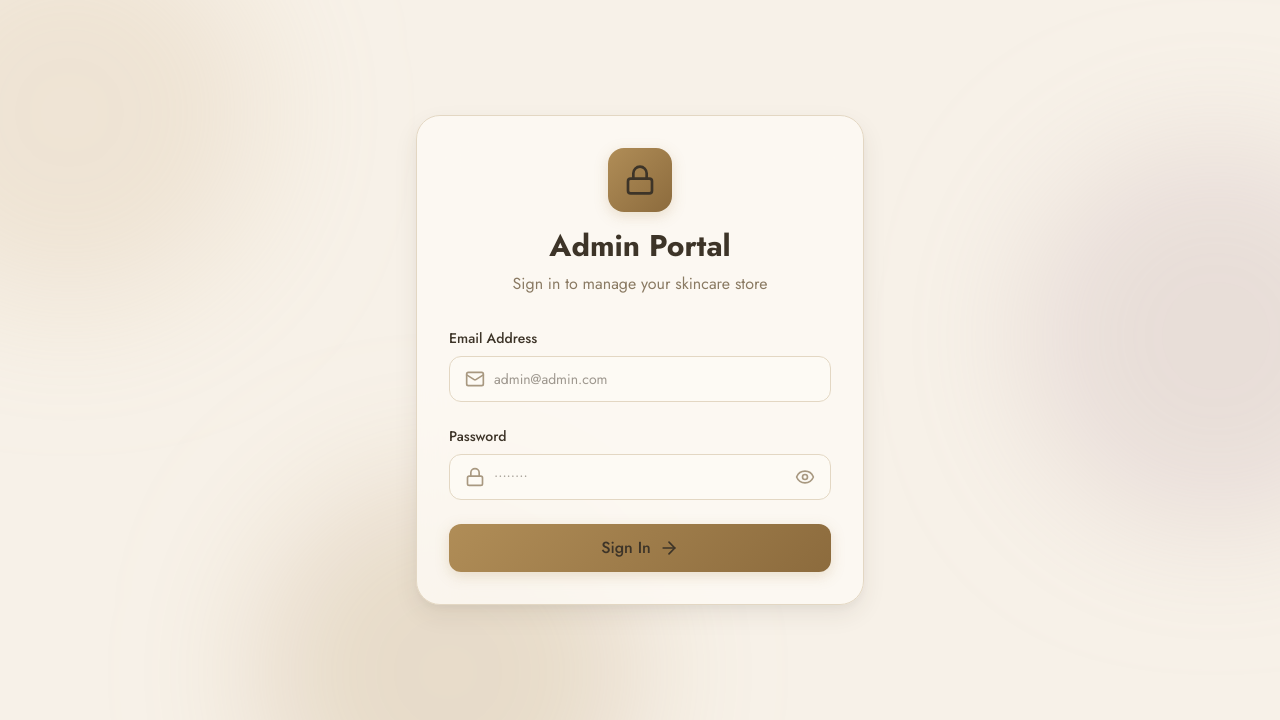
Test: Admin Login Flow E2E › should show validation error for invalid email format
The width and height of the screenshot is (1280, 720).
Type "invalid@email" into the field with placeholder "admin@admin.com".
click(640, 379); type("invalid@email")  # box [449,356,831,402]
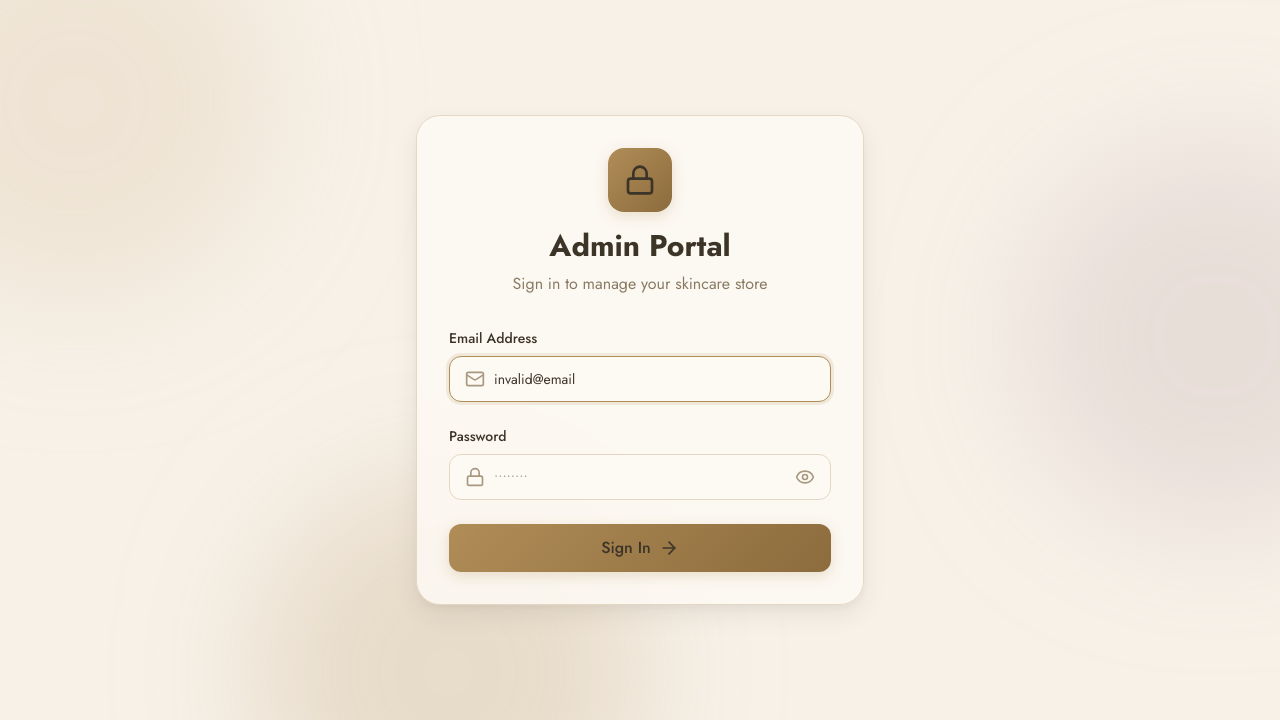
Type "somepassword" into the password field with placeholder "••••••••".
click(640, 477); type("somepassword")  # box [449,454,831,500]
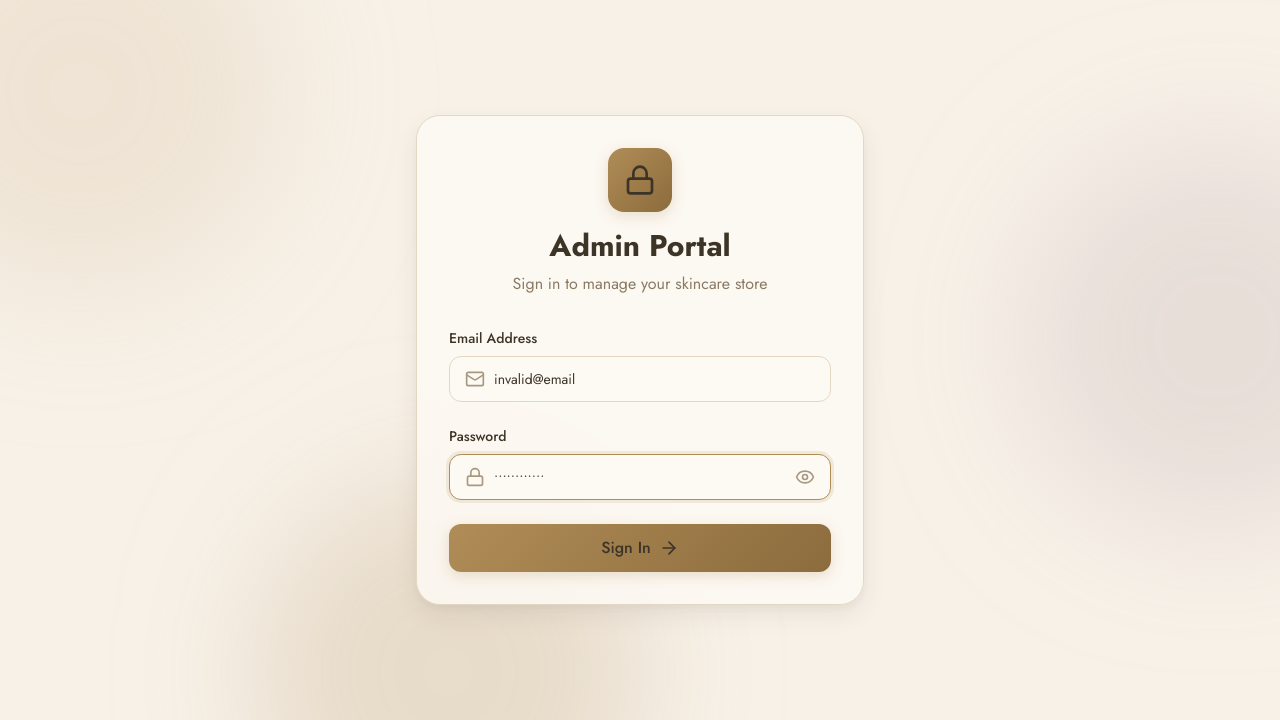
Click the submit button.
click(640, 548)  # box [449,524,831,572]
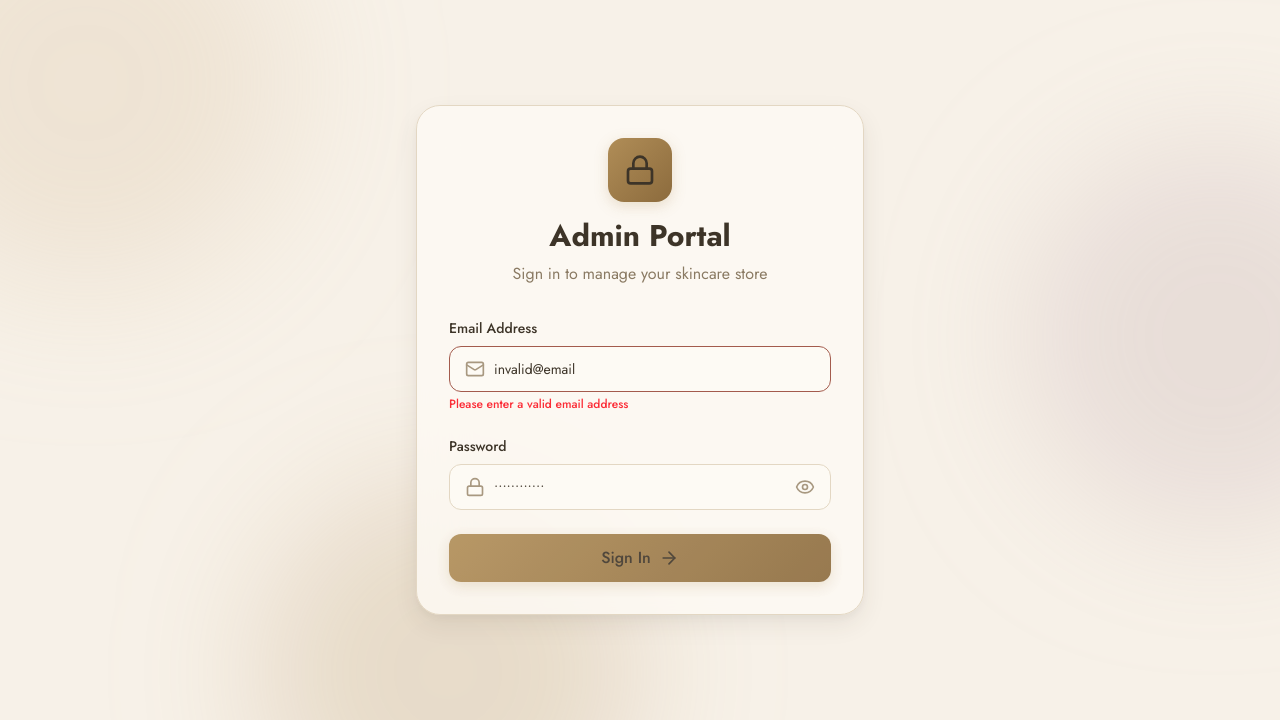
Result: the text "Please enter a valid email address" is shown at [449,395,628,413]
